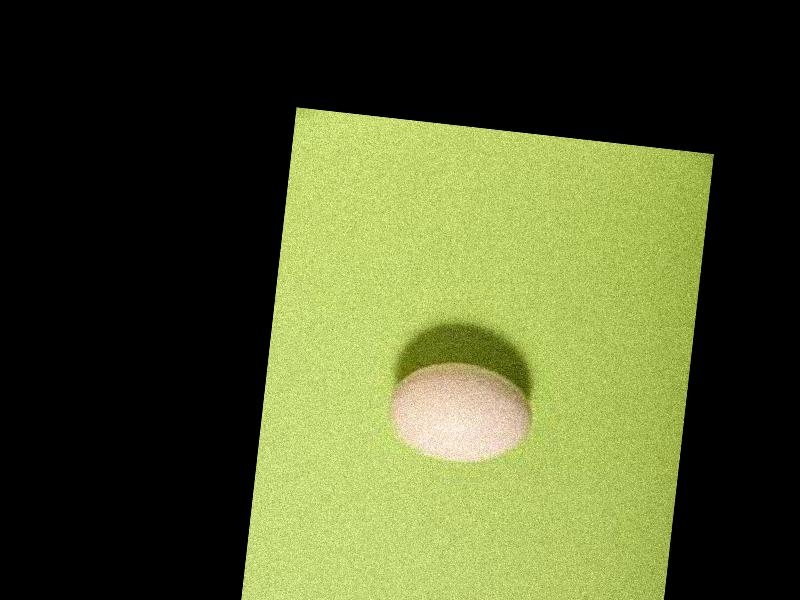Eggs: (385, 355, 539, 467)
